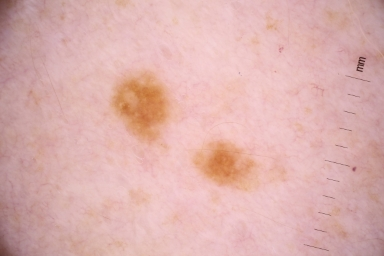melanoma: (114, 73, 167, 143), (197, 144, 259, 184)
